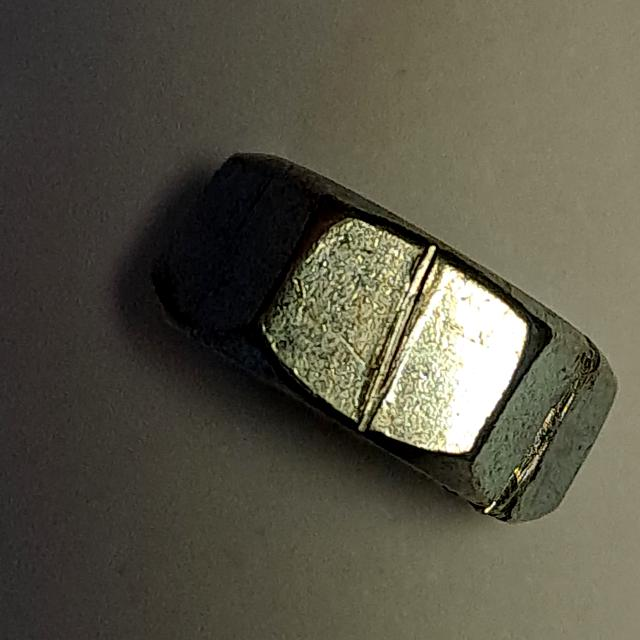Side_Scratches: (141, 129, 627, 537)
